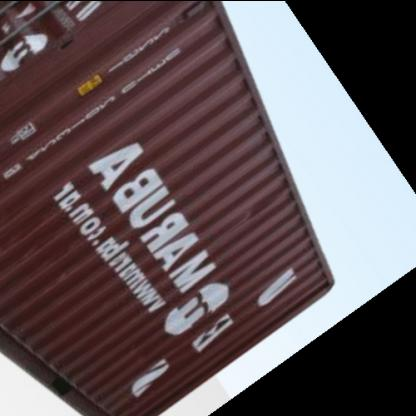Damage: (224, 195, 274, 237), (34, 263, 80, 297)
